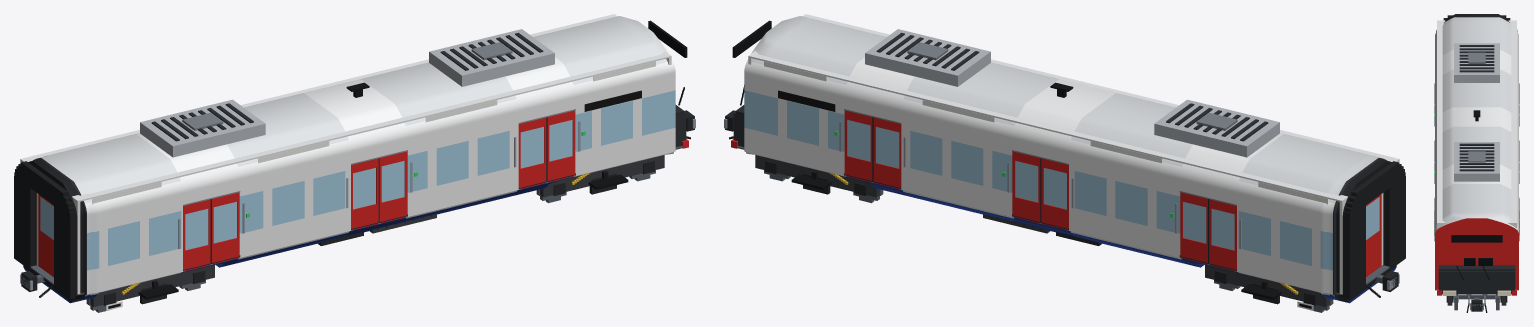
File: sstock_front.obj
3 views of the same model, side by side, from view 1: azimuth 30°, elevation 25°; view 2: azimuth 150°, elevation 25°; view 3: azimuth 270°, elevation 25° (orthographic). The views are drawn at different scales.
Visible parts, largest first — view 1: SHELL, SHELL_roof, SHELL_ceiling, SHELL_diaphragm, BOGEY_REAR, BOGEY_FRONT, EXTERNAL_DOOR_15_CG_DR3_TOGGLE_TL_-0.74_X, EXTERNAL_DOOR_10_CG_DR2_TOGGLE_TL_0.74_X, EXTERNAL_DOOR_3_CG_DR1_TOGGLE_TL_-0.74_X, EXTERNAL_DOOR_9_CG_DR2_TOGGLE_TL_-0.74_X, EXTERNAL_DOOR_16_CG_DR3_TOGGLE_TL_0.74_X, EXTERNAL_DOOR_4_CG_DR1_TOGGLE_TL_0.74_X (+7 smaller); view 2: SHELL, SHELL_roof, SHELL_ceiling, SHELL_diaphragm, BOGEY_REAR, BOGEY_FRONT, EXTERNAL_DOOR_18_CG_DL3_TOGGLE_TL_-0.74_X, EXTERNAL_DOOR_13_CG_DL2_TOGGLE_TL_0.74_X, EXTERNAL_DOOR_6_CG_DL1_TOGGLE_TL_-0.74_X, EXTERNAL_DOOR_12_CG_DL2_TOGGLE_TL_-0.74_X, EXTERNAL_DOOR_19_CG_DL3_TOGGLE_TL_0.74_X, EXTERNAL_DOOR_7_CG_DL1_TOGGLE_TL_0.74_X (+7 smaller); view 3: SHELL, SHELL_roof, SHELL_ceiling, SHELL_desk, SHELL_destbox, BOGEY_FRONT_WHEEL_2, SHELL_handle, FRAME, BOGEY_FRONT, HEADLIGHT_1, SHELL_cabwall.
Boxes of the visible parts, bbox=[...] form: SHELL: bbox=[23, 16, 675, 303]; SHELL_roof: bbox=[140, 29, 554, 157]; SHELL_ceiling: bbox=[23, 14, 668, 201]; SHELL_diaphragm: bbox=[14, 161, 75, 299]; BOGEY_REAR: bbox=[90, 264, 214, 307]; BOGEY_FRONT: bbox=[540, 155, 664, 197]; EXTERNAL_DOOR_15_CG_DR3_TOGGLE_TL_-0.74_X: bbox=[518, 117, 547, 187]; EXTERNAL_DOOR_10_CG_DR2_TOGGLE_TL_0.74_X: bbox=[379, 151, 407, 221]; EXTERNAL_DOOR_3_CG_DR1_TOGGLE_TL_-0.74_X: bbox=[183, 199, 211, 269]; EXTERNAL_DOOR_9_CG_DR2_TOGGLE_TL_-0.74_X: bbox=[351, 158, 379, 228]; EXTERNAL_DOOR_16_CG_DR3_TOGGLE_TL_0.74_X: bbox=[547, 110, 575, 180]; EXTERNAL_DOOR_4_CG_DR1_TOGGLE_TL_0.74_X: bbox=[212, 192, 239, 262]; SHELL: bbox=[744, 16, 1396, 303]; SHELL_roof: bbox=[865, 29, 1279, 157]; SHELL_ceiling: bbox=[751, 14, 1396, 201]; SHELL_diaphragm: bbox=[1344, 161, 1405, 299]; BOGEY_REAR: bbox=[1205, 264, 1329, 307]; BOGEY_FRONT: bbox=[755, 155, 879, 197]; EXTERNAL_DOOR_18_CG_DL3_TOGGLE_TL_-0.74_X: bbox=[872, 117, 901, 187]; EXTERNAL_DOOR_13_CG_DL2_TOGGLE_TL_0.74_X: bbox=[1012, 151, 1040, 221]; EXTERNAL_DOOR_6_CG_DL1_TOGGLE_TL_-0.74_X: bbox=[1208, 199, 1236, 269]; EXTERNAL_DOOR_12_CG_DL2_TOGGLE_TL_-0.74_X: bbox=[1040, 158, 1068, 228]; EXTERNAL_DOOR_19_CG_DL3_TOGGLE_TL_0.74_X: bbox=[844, 110, 872, 180]; EXTERNAL_DOOR_7_CG_DL1_TOGGLE_TL_0.74_X: bbox=[1180, 192, 1207, 262]; SHELL: bbox=[1435, 14, 1518, 290]; SHELL_roof: bbox=[1454, 43, 1499, 181]; SHELL_ceiling: bbox=[1437, 21, 1516, 221]; SHELL_desk: bbox=[1438, 258, 1515, 293]; SHELL_destbox: bbox=[1451, 235, 1502, 242]; BOGEY_FRONT_WHEEL_2: bbox=[1453, 294, 1500, 310]; SHELL_handle: bbox=[1434, 83, 1519, 241]; FRAME: bbox=[1466, 297, 1487, 312]; BOGEY_FRONT: bbox=[1446, 294, 1507, 305]; HEADLIGHT_1: bbox=[1443, 290, 1510, 295]; SHELL_cabwall: bbox=[1437, 222, 1516, 228].
Size of the model in its own units: 18.64 by 4.04 by 2.96.
Materials: 1 (1 with a texture image).
